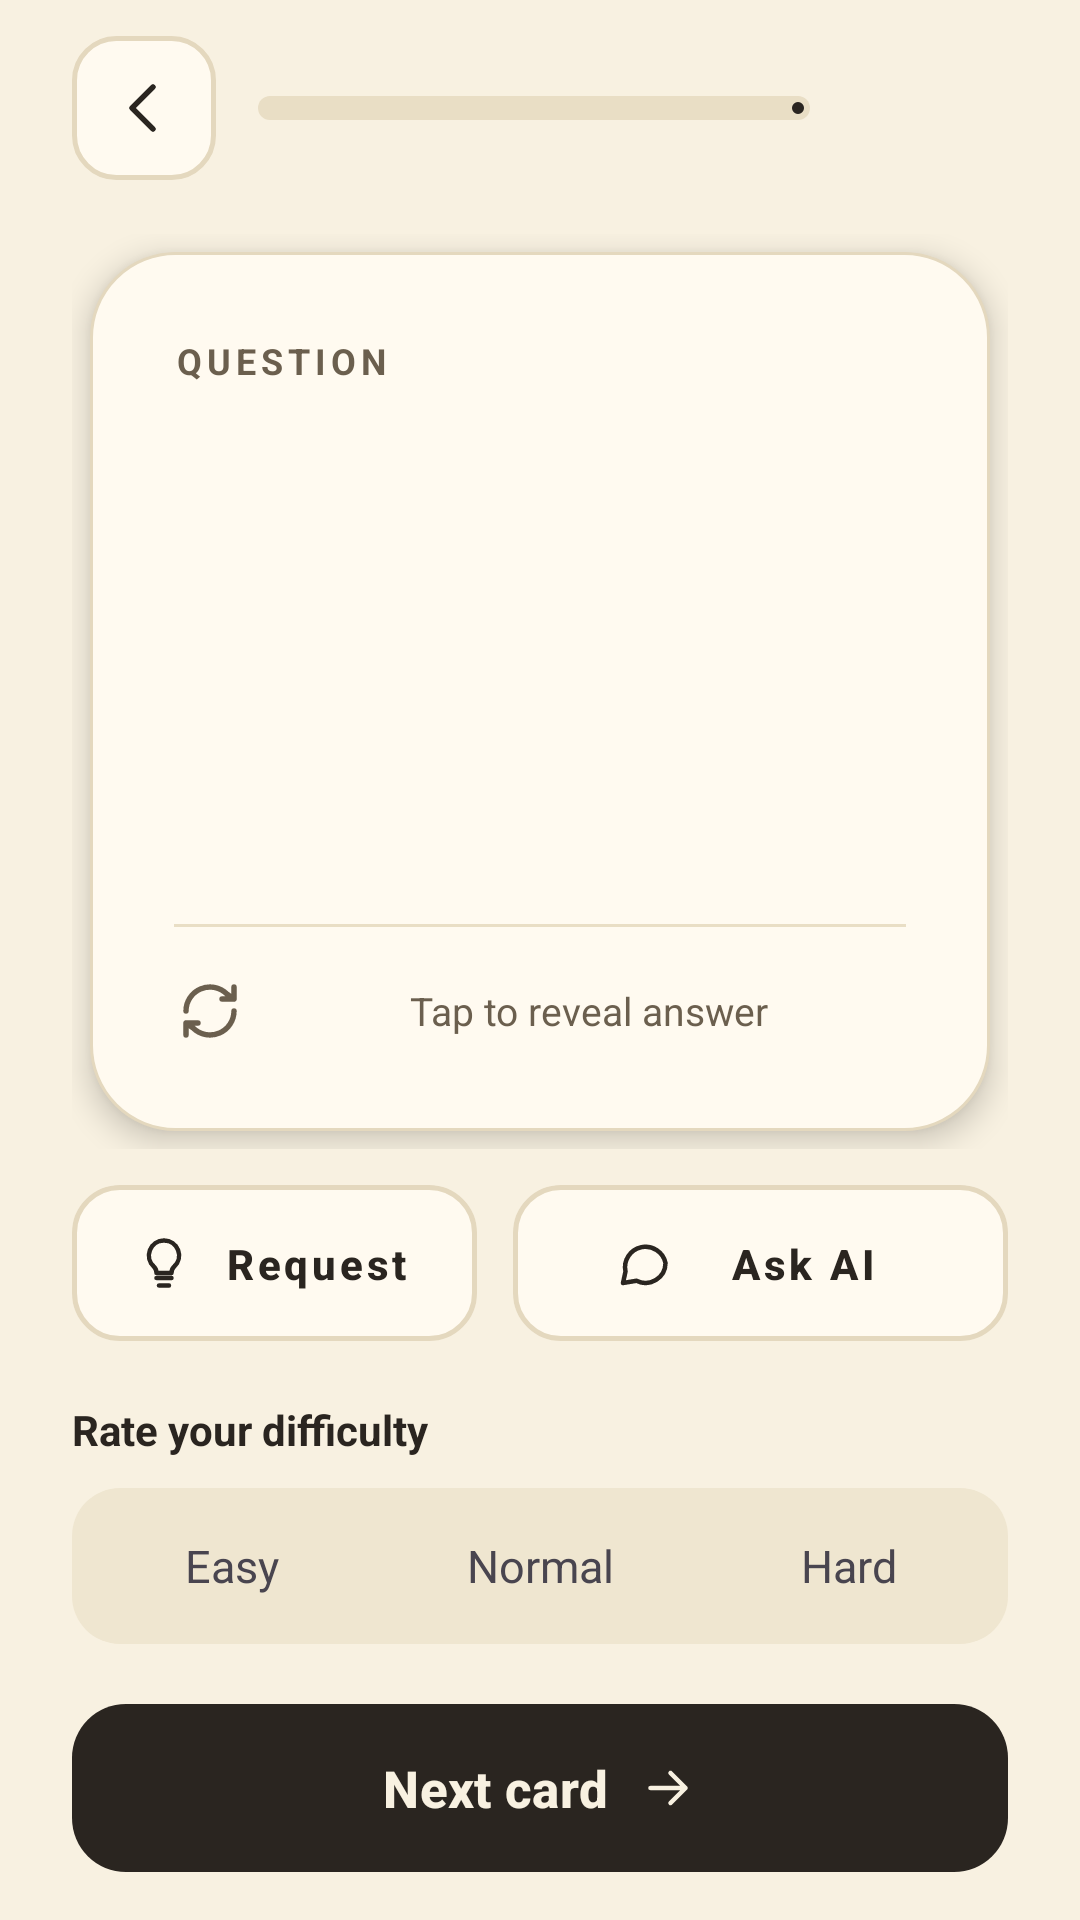

Point at icon controls on the screen. Image size 1080w x 1920h, points as (x=x, y=y).
Back: (x=144, y=108)
